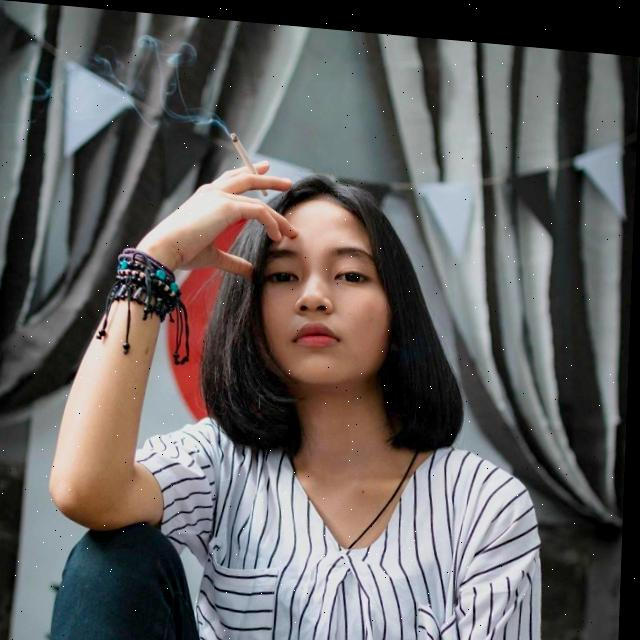cigarette: (230, 128, 272, 192)
